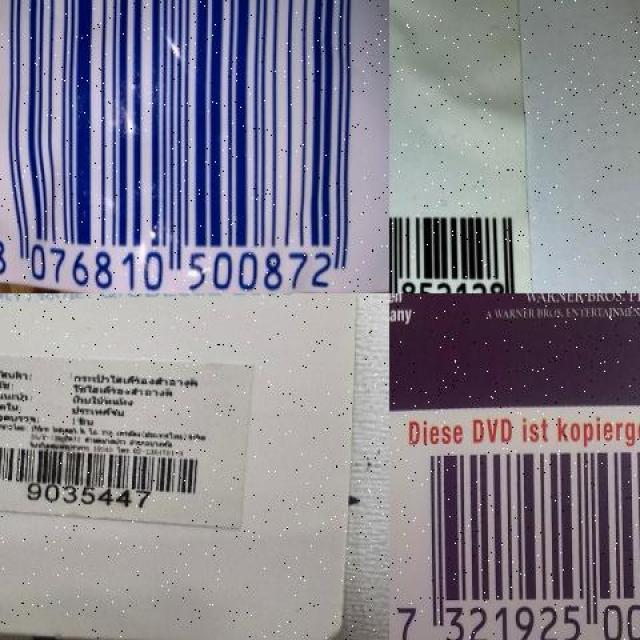Barcode: (0, 0, 389, 293), (389, 397, 640, 640), (0, 436, 212, 511), (389, 198, 528, 294)
